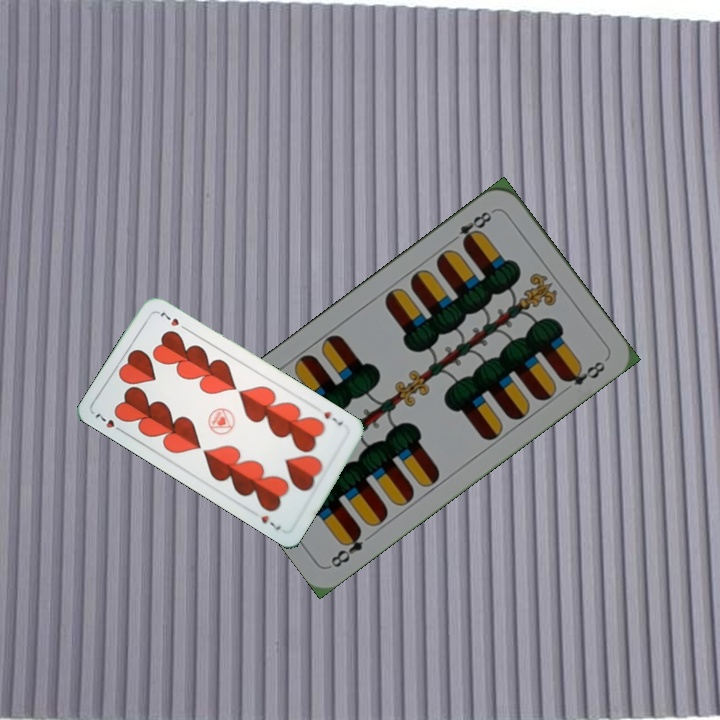E8: (446, 206, 497, 249), (326, 525, 366, 571)
H7: (91, 409, 127, 436), (319, 407, 346, 429)
